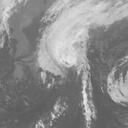cyclone: (36, 25, 90, 75), (105, 63, 127, 107)
